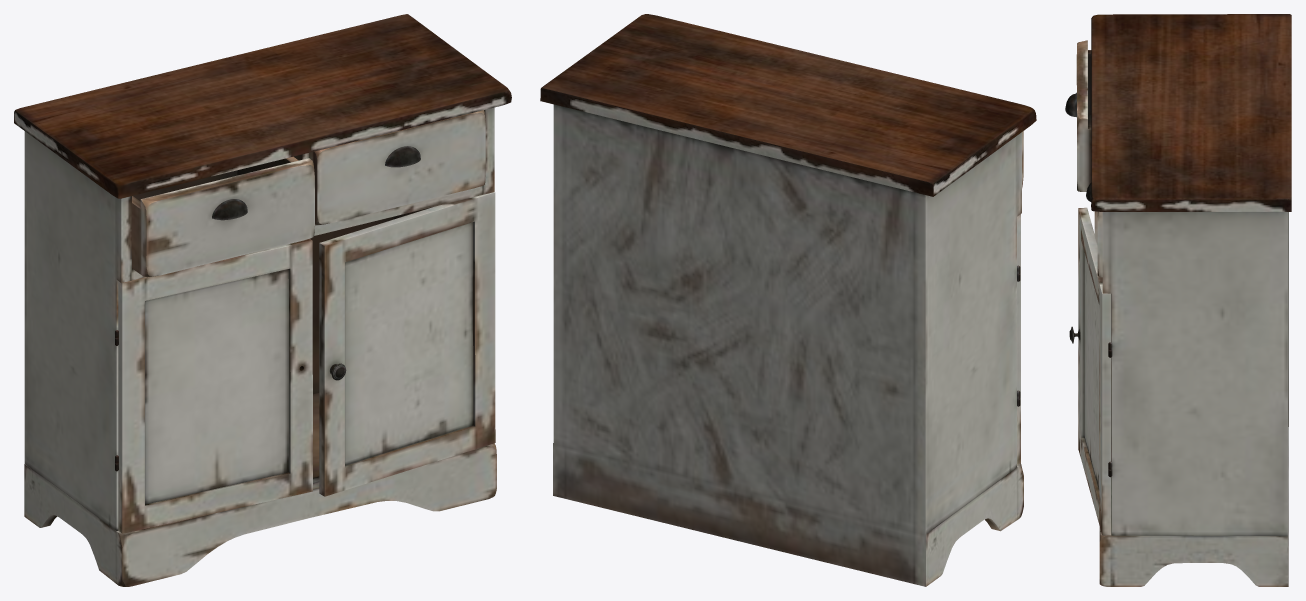
File: painted_wooden_cabinet.gltf
3 renders of one model, left to right at view 1: azimuth 30°, elevation 25°; view 2: azimuth 150°, elevation 25°; view 3: azimuth 270°, elevation 25°, orthographic. The views are drawn at different scales.
Parts seen in each view (by area): view 1: painted_wooden_cabinet, painted_wooden_cabinet_door_01, painted_wooden_cabinet_door_02, painted_wooden_cabinet_drawer_01, painted_wooden_cabinet_drawer_02; view 2: painted_wooden_cabinet, painted_wooden_cabinet_door_01; view 3: painted_wooden_cabinet, painted_wooden_cabinet_door_02, painted_wooden_cabinet_drawer_01, painted_wooden_cabinet_drawer_02.
Part boxes in pixels (x1,y1,x2,y2): painted_wooden_cabinet: [14, 14, 511, 586]; painted_wooden_cabinet_door_01: [118, 238, 312, 533]; painted_wooden_cabinet_door_02: [319, 192, 495, 496]; painted_wooden_cabinet_drawer_01: [132, 156, 314, 277]; painted_wooden_cabinet_drawer_02: [313, 110, 485, 224]; painted_wooden_cabinet: [540, 14, 1036, 586]; painted_wooden_cabinet_door_01: [1017, 214, 1020, 465]; painted_wooden_cabinet: [1091, 14, 1291, 586]; painted_wooden_cabinet_door_02: [1069, 207, 1110, 535]; painted_wooden_cabinet_drawer_01: [1065, 40, 1091, 191]; painted_wooden_cabinet_drawer_02: [1086, 183, 1102, 277].
Bounding box in the file's own units: 1.19 × 1.18 × 0.6166.
Materials: 1 (1 with a texture image).
